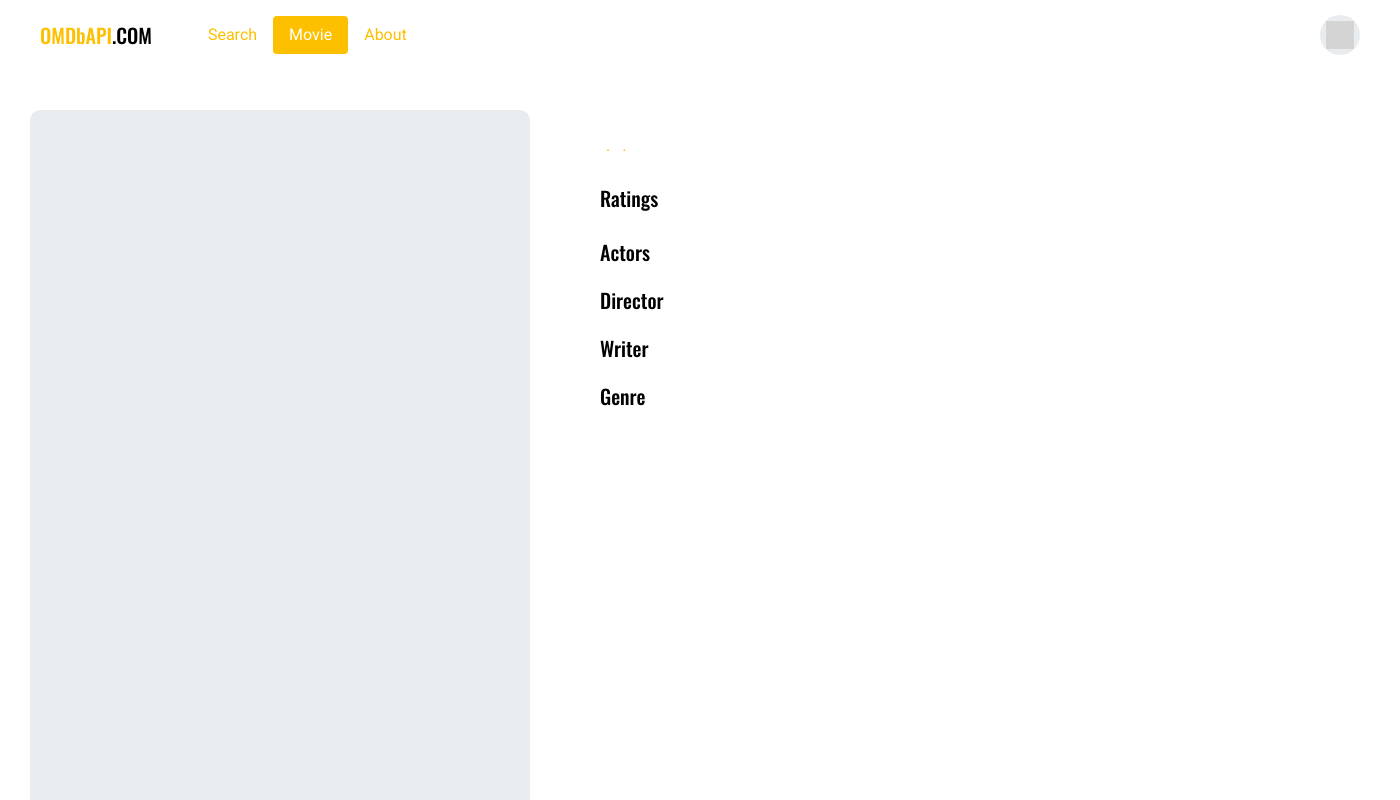
about페이지로 이동 › about 페이지로 이동
Step 1. Click the element with class "user" → (1340, 35), box [1320, 15, 1360, 55]
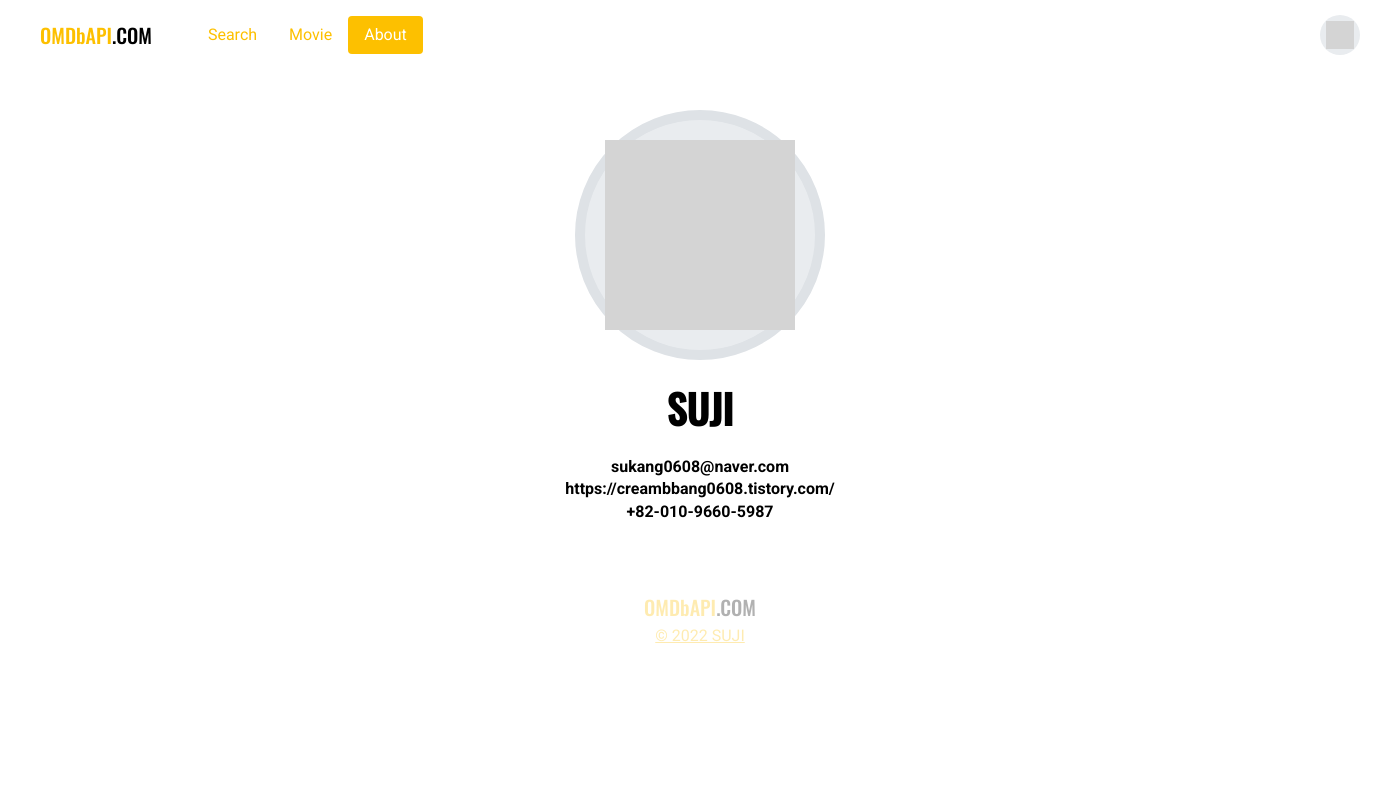
Expected: the link "About" is shown, [348, 16, 423, 54]
Expected: the text "SUJI" is shown, [667, 378, 733, 438]
